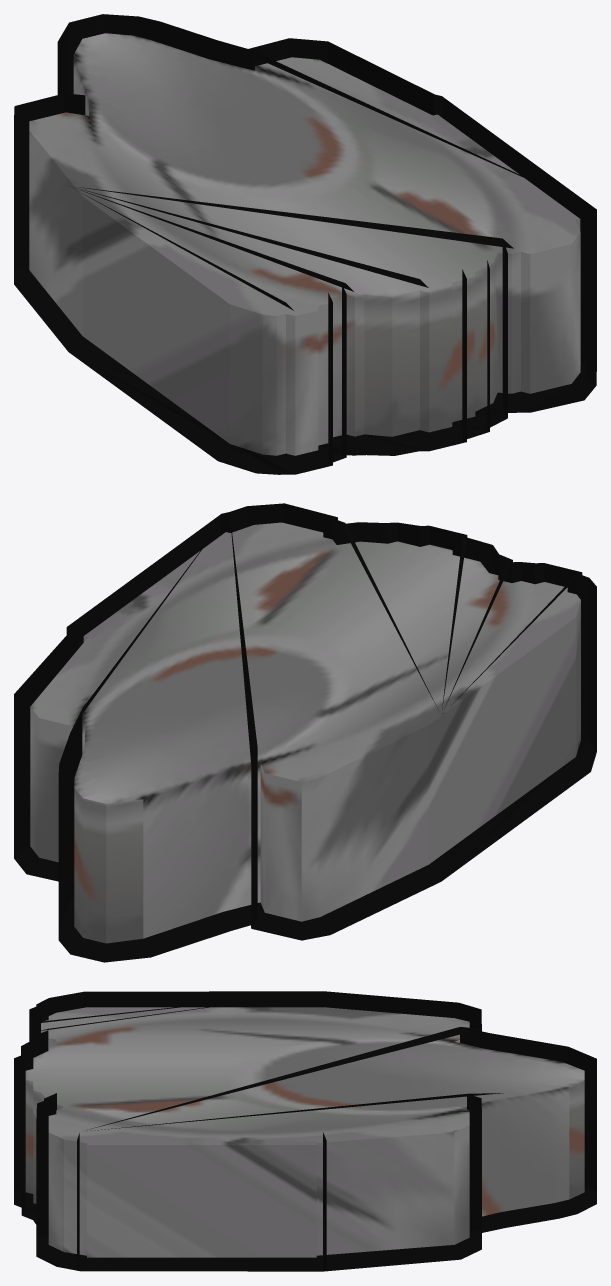
File: Building_AncientTransportPod_Things_Building_AncientLaunchPod_AncientLaunchPodC.glb
3 views of the same model, one above another, from view 1: azimuth 30°, elevation 25°; view 2: azimuth 150°, elevation 25°; view 3: azimuth 270°, elevation 25° (orthographic). The views are drawn at different scales.
Visible parts, largest first — view 1: Body, Outline; view 2: Body, Outline; view 3: Body, Outline.
Part boxes in pixels (bbox=[...]): Body: bbox=[29, 33, 580, 455]; Outline: bbox=[14, 14, 596, 474]; Body: bbox=[30, 522, 580, 943]; Outline: bbox=[14, 503, 596, 962]; Body: bbox=[25, 1007, 584, 1257]; Outline: bbox=[14, 991, 596, 1271].
Size of the model in its own units: 0.6347 by 0.2863 by 1.06.
Materials: 2 (1 with a texture image).
